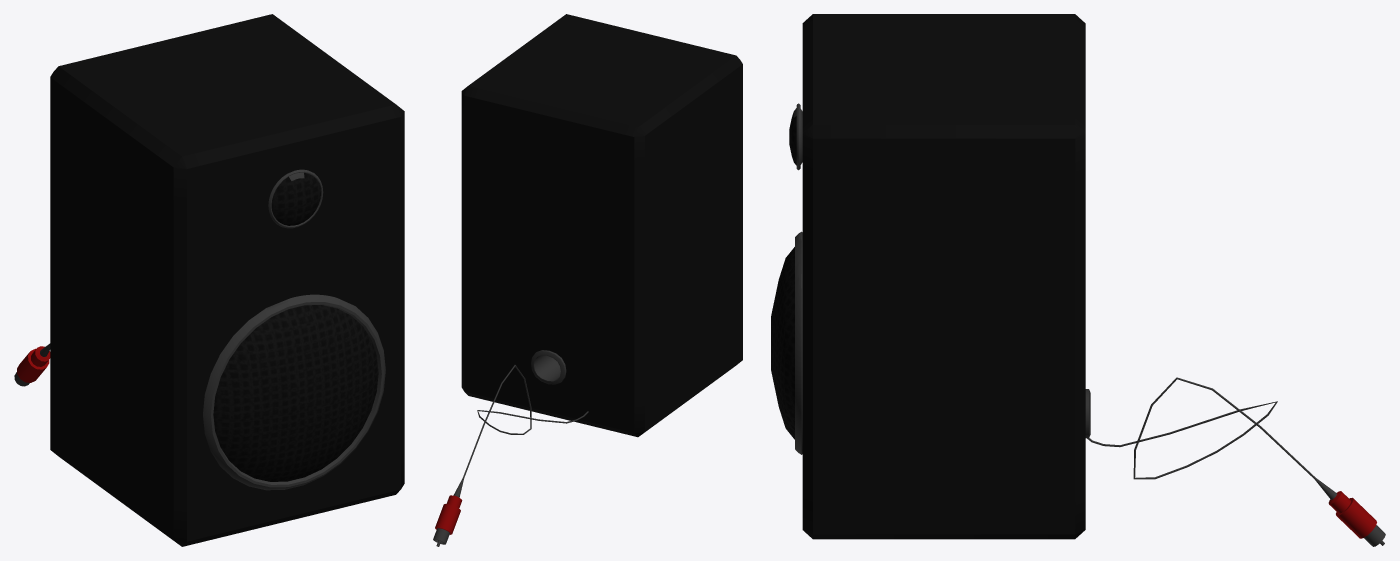
File: Speaker.glb
3 views of the same model, side by side, from view 1: azimuth 30°, elevation 25°; view 2: azimuth 150°, elevation 25°; view 3: azimuth 270°, elevation 25° (orthographic). The views are drawn at different scales.
Parts seen in each view (by area): view 1: Mesh (2), Mesh; view 2: Mesh (2); view 3: Mesh (2).
Boxes of the visible parts, <box> form: Mesh (2): <box>14,14,404,546</box>; Mesh: <box>268,169,323,228</box>; Mesh (2): <box>433,14,742,546</box>; Mesh (2): <box>771,14,1385,546</box>.
Bounding box in the file's own units: 0.82 × 1.52 × 1.78.
Materials: 7 (1 with a texture image).
